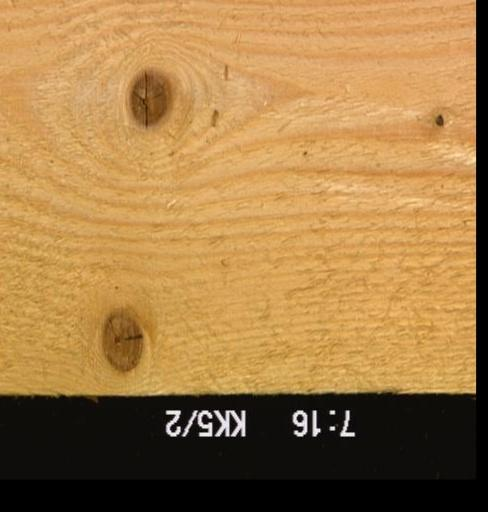dry_knot: (431, 110, 447, 131)
sound_knot: (101, 308, 144, 371), (124, 71, 172, 126)
